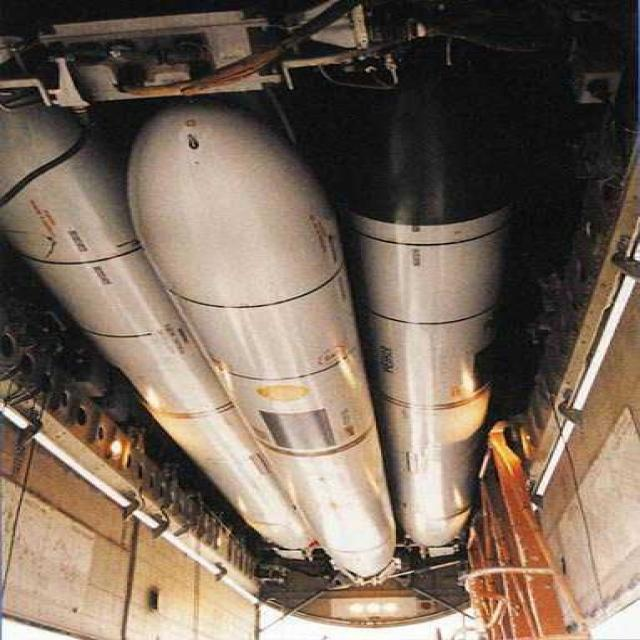missile: (124, 97, 472, 582)
